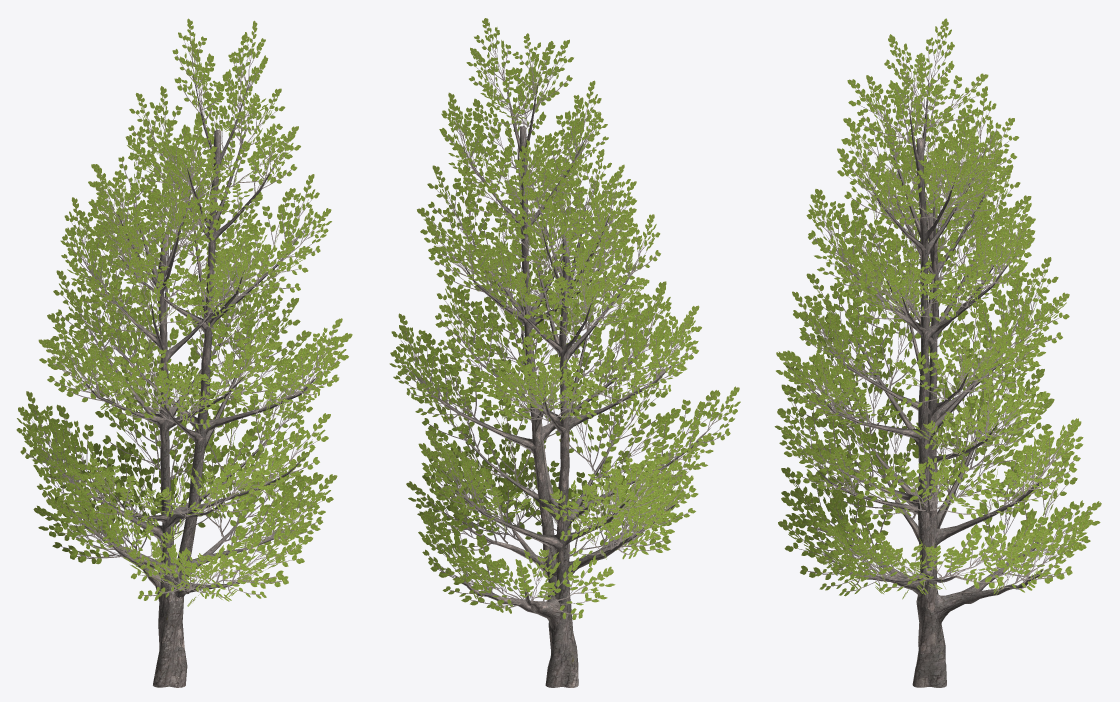
File: elm.glb
3 views of the same model, side by side, from view 1: azimuth 30°, elevation 25°; view 2: azimuth 150°, elevation 25°; view 3: azimuth 270°, elevation 25° (orthographic). The views are drawn at different scales.
Parts seen in each view (by area): view 1: elm leaf_1, bark07_0; view 2: elm leaf_1, bark07_0; view 3: elm leaf_1, bark07_0.
Boxes of the visible parts, box(x1,y1,x2,y2) form: elm leaf_1: box(16, 18, 352, 606); bark07_0: box(46, 75, 322, 687); elm leaf_1: box(389, 18, 740, 619); bark07_0: box(415, 63, 710, 687); elm leaf_1: box(774, 18, 1101, 599); bark07_0: box(806, 69, 1051, 687).
Size of the model in its own units: 6.35 by 14 by 6.23.
Materials: 2 (2 with a texture image).
